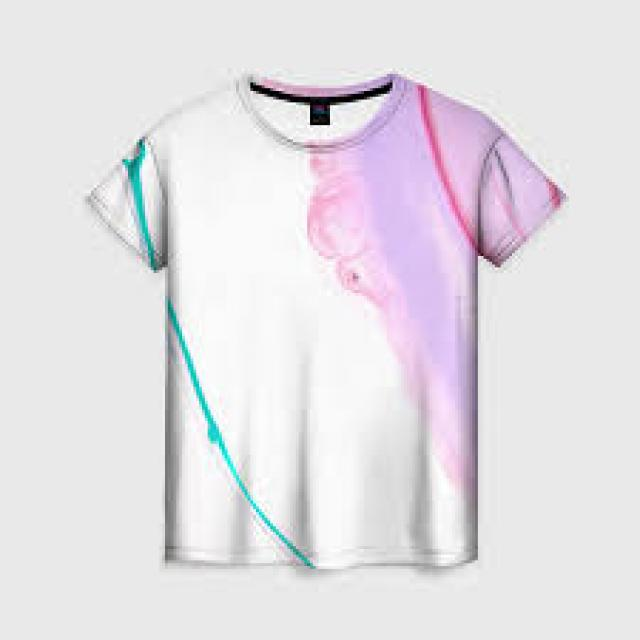Shirt: (70, 78, 563, 577)
